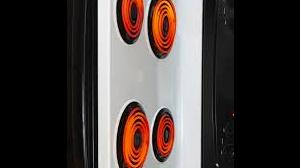controlled_fire: (114, 0, 178, 56), (114, 106, 176, 160)
